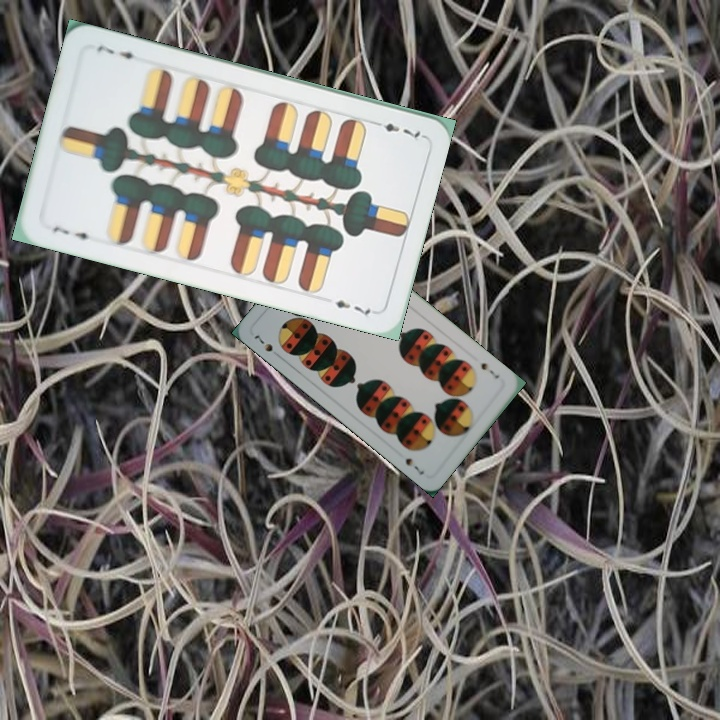E7: (367, 117, 425, 141), (49, 222, 98, 244)
S7: (250, 331, 275, 355), (477, 358, 502, 381)
